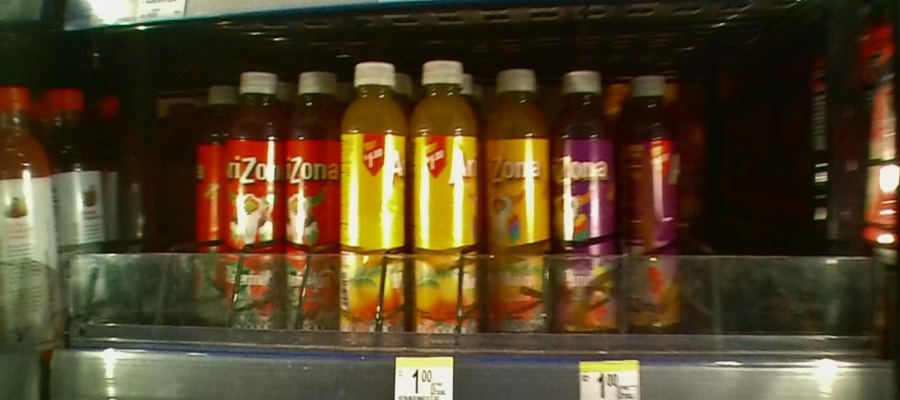bottle: (410, 56, 484, 352), (344, 64, 412, 350), (552, 67, 620, 352), (486, 58, 551, 354), (620, 75, 685, 339), (287, 68, 344, 344), (230, 70, 288, 339), (191, 80, 228, 330)
